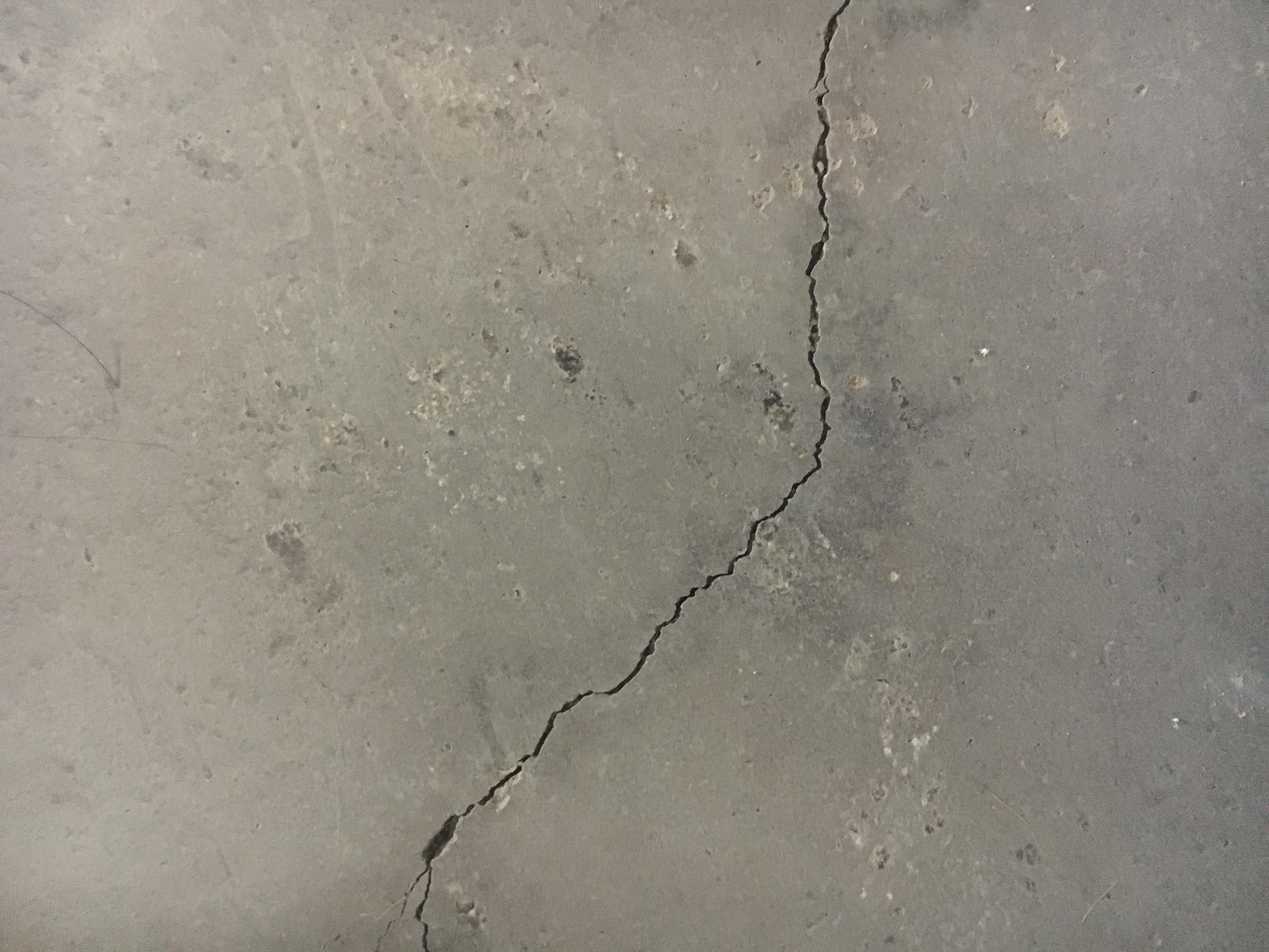Vertical Crack: (374, 2, 849, 946)
